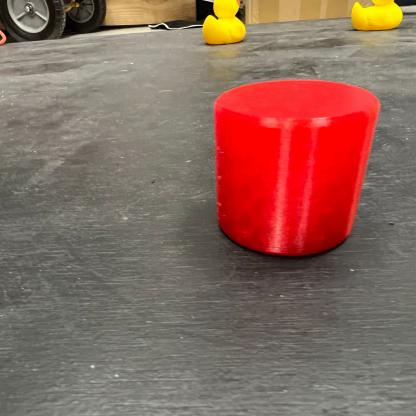duck: (199, 0, 252, 48), (350, 0, 405, 33)
red cylinder: (211, 76, 382, 262)
